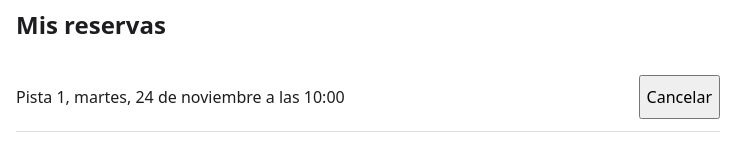
Scenario: MisReservas › lista las reservas pendientes y permite cancelar con margen
Check: the text "Pista 1, martes, 24 de noviembre a las 10:00" is shown, box [16,85,345,109]
Click the button with aria-label "Cancelar la reserva del martes, 24 de noviembre a las 10:00".
click(679, 97)  # box [639,75,720,119]
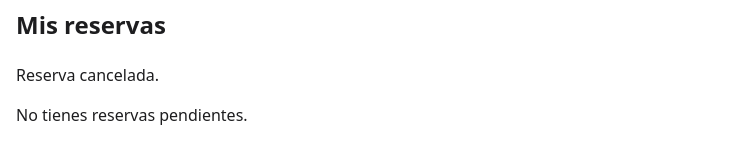
Check: the text "No tienes reservas pendientes." is shown, box [16,104,248,126]
Check: the message reads "Reserva cancelada.", box [16,64,159,86]
